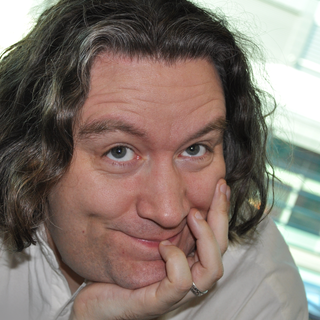eye: (95, 140, 144, 165), (174, 138, 216, 164)
